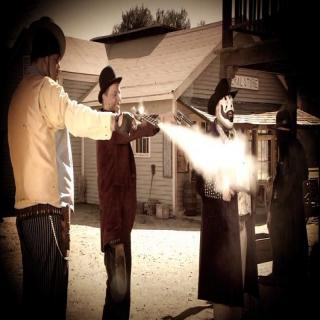gun: (118, 103, 172, 146), (168, 104, 194, 134)
